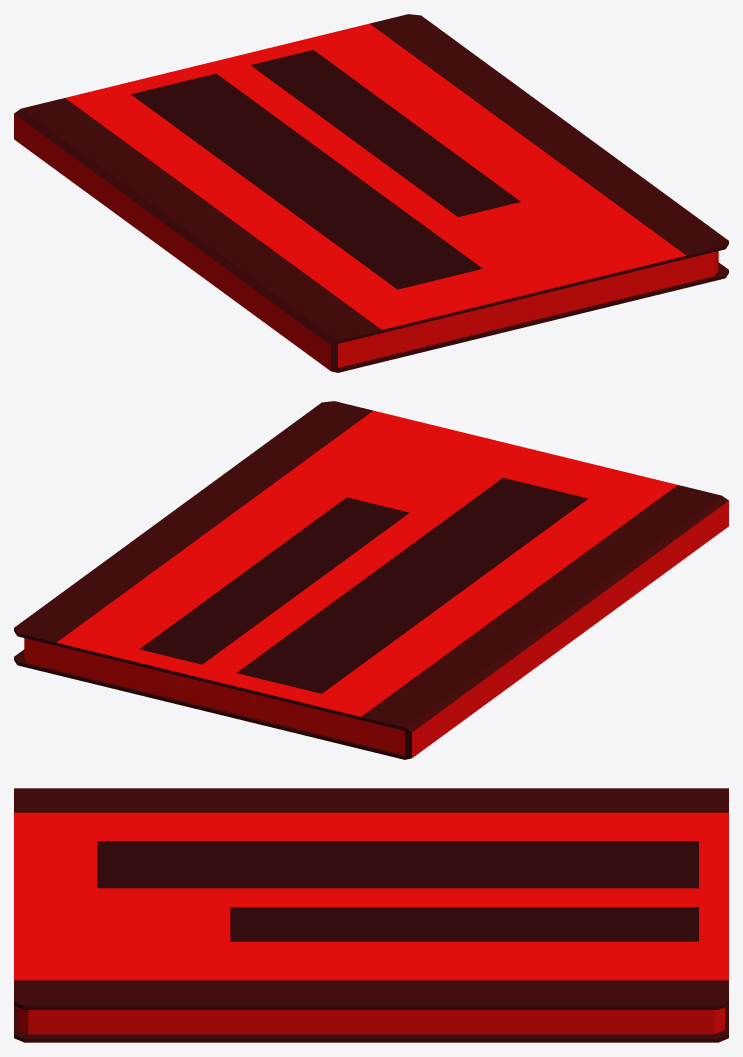
File: SchoolBook.003.glb
3 renders of one model, top to bottom at view 1: azimuth 30°, elevation 25°; view 2: azimuth 150°, elevation 25°; view 3: azimuth 270°, elevation 25°, orthographic. The views are drawn at different scales.
Visible parts, largest first — view 1: SchoolBook.003; view 2: SchoolBook.003; view 3: SchoolBook.003.
Part boxes in pixels (x1,y1,x2,y2): SchoolBook.003: (14,14,728,372); SchoolBook.003: (14,401,728,759); SchoolBook.003: (14,788,728,1042).
Bounding box in the file's own units: 1.78 × 0.1382 × 2.43.
